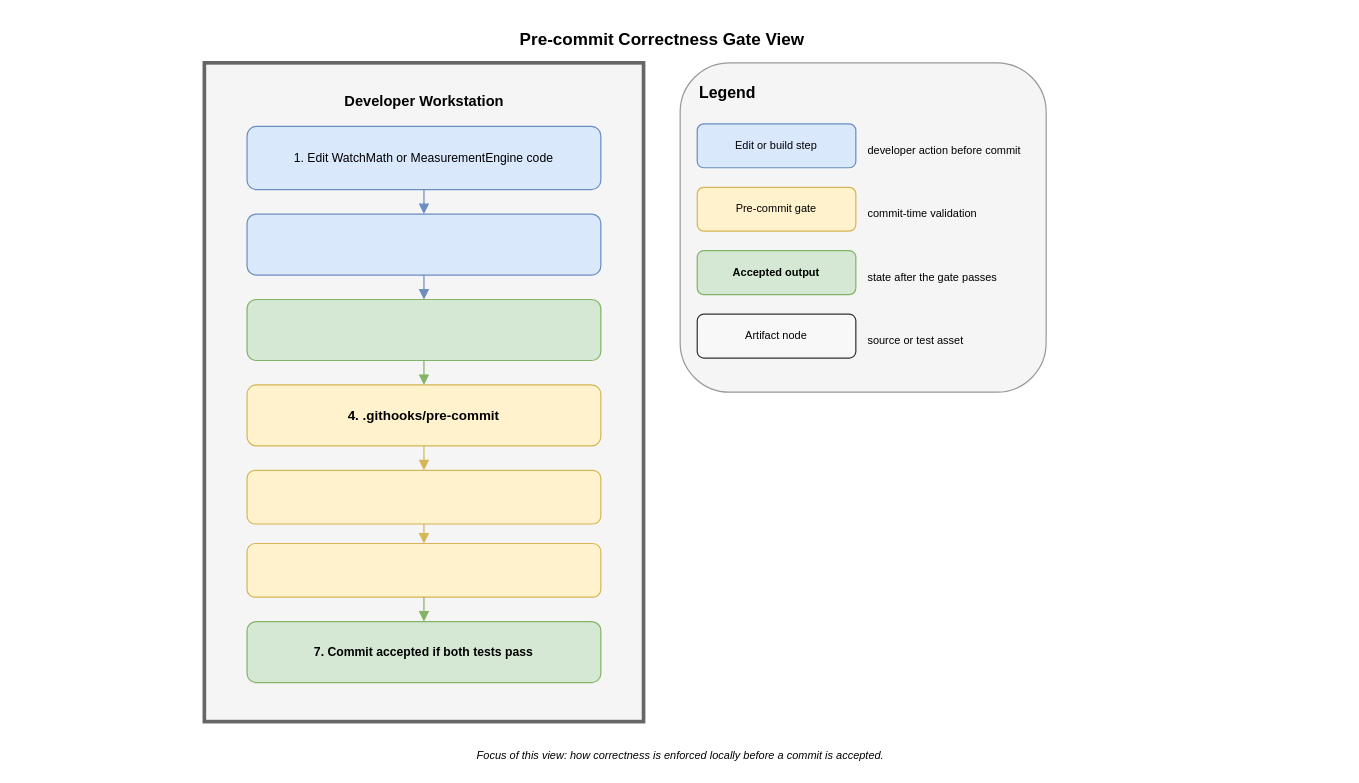
The diagram is 1359 pixels wide and 783 high, and some of its shapes have lost their labels. The shapes that lost their labels are listed below. From the top down, each one's centre as x and y in pixels, then its label:
At [423,244]: "2. Build local test binaries".
At [423,329]: "3. git commit".
At [423,496]: "5. Run TestWatchMath".
At [423,569]: "6. Run TestMeasurementEngine".
